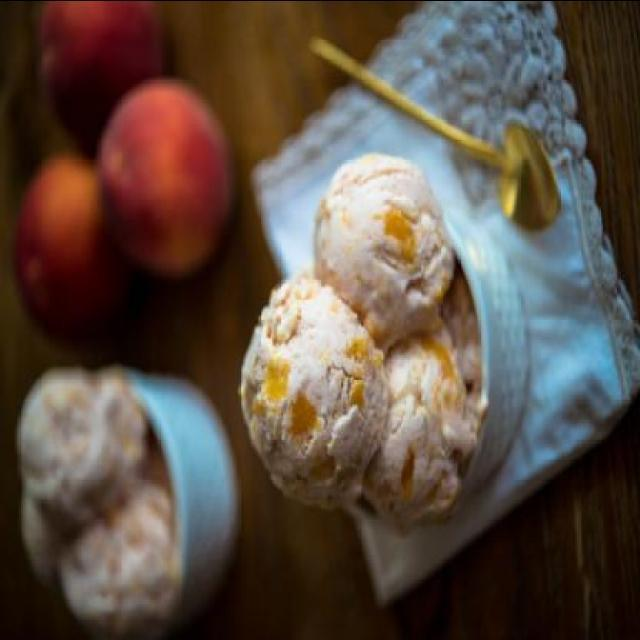Peach: (97, 78, 231, 260), (12, 156, 132, 344), (38, 0, 164, 156)
